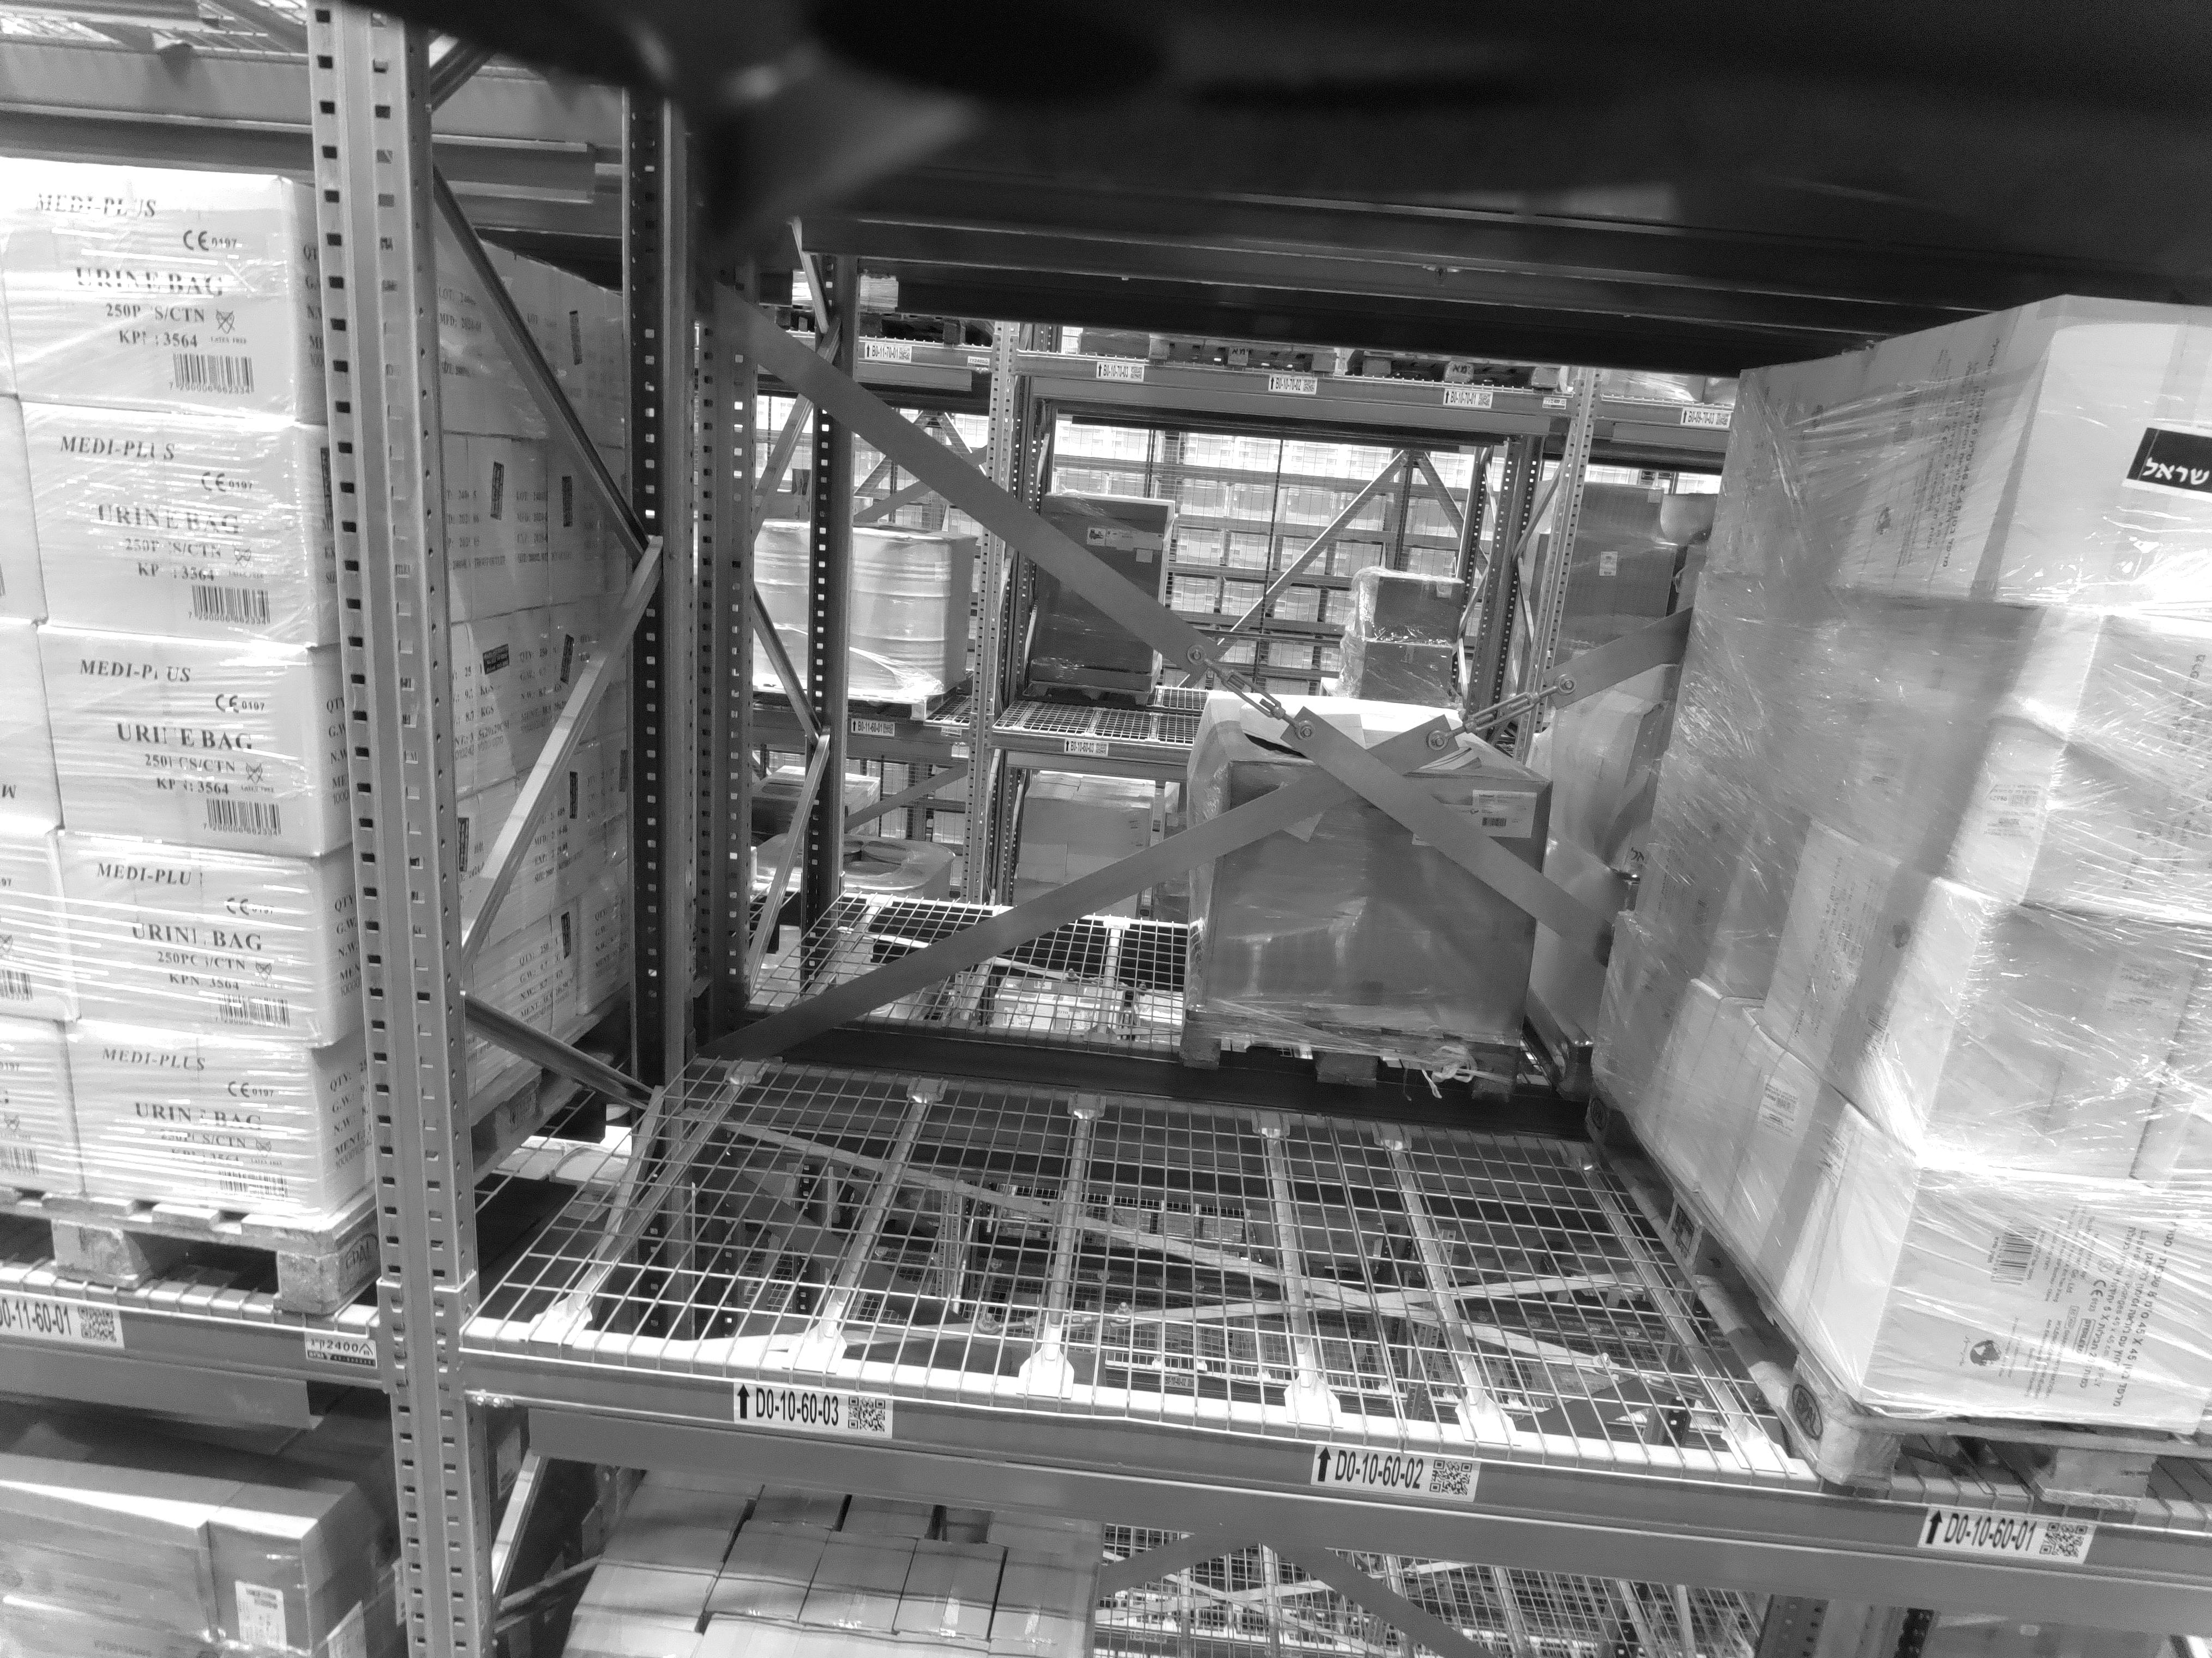empty-shelf: (589, 275, 1045, 1339), (1205, 317, 1601, 1404)
